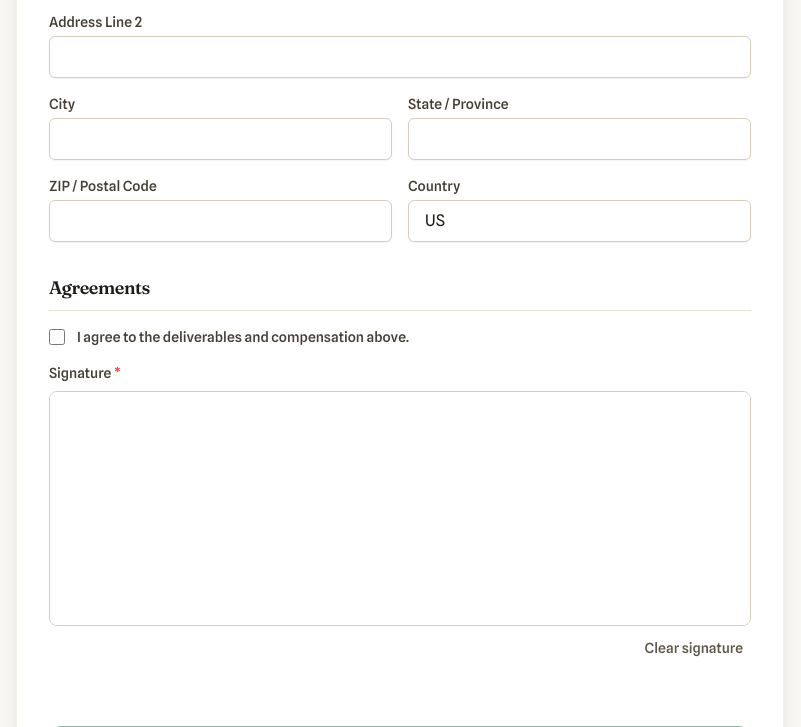
Test case: AcceptOffer signature pad › signature captures pointer strokes
(page scrolled)
Click the checkbox labelled "I agree to the deliverables and compensation above." at (57, 337), box [49,329,65,345]
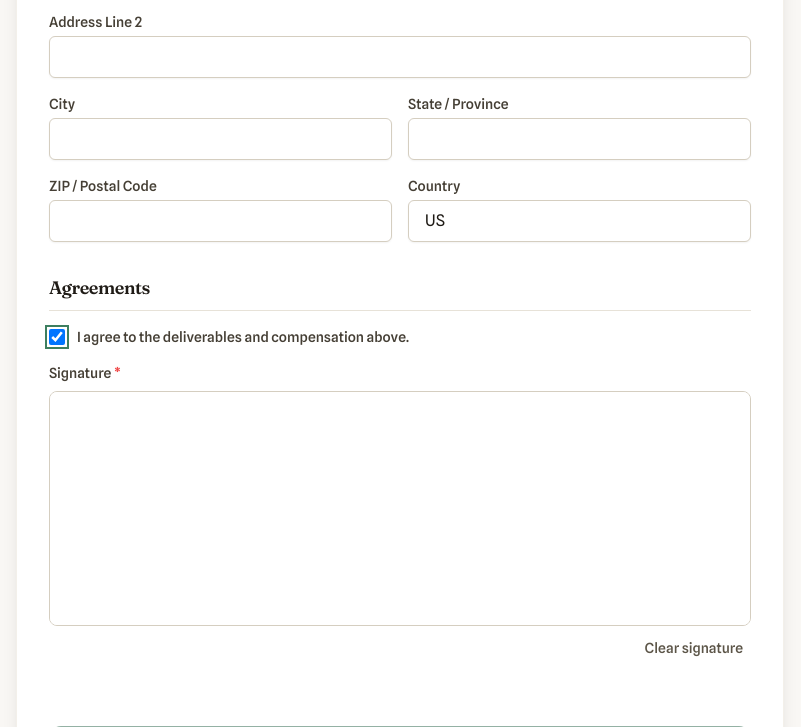
Press the mouse on the picture named "Signature pad" at (400, 509), box [50,392,750,625]
(page scrolled)
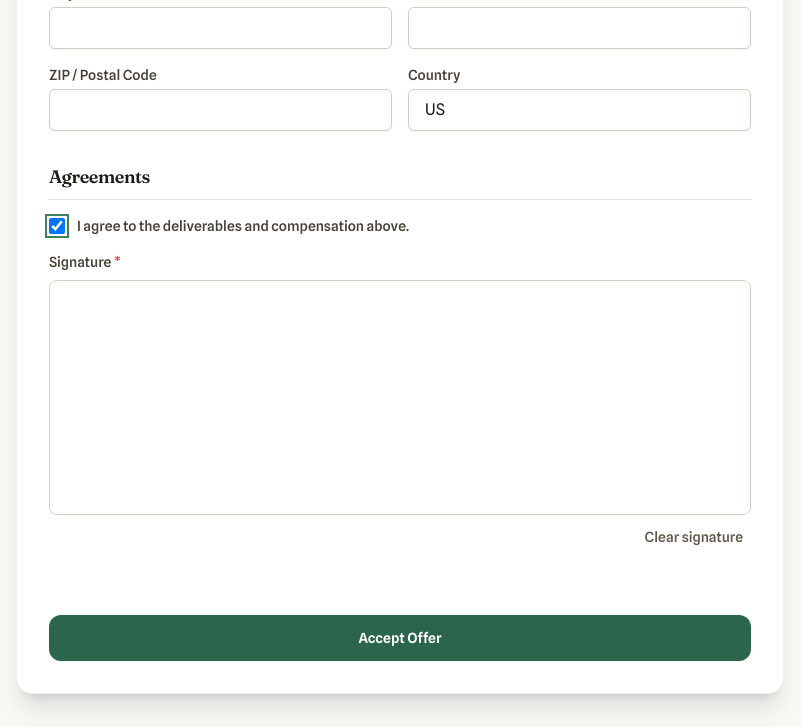
Expected: the button "Accept Offer" is enabled
Click the button "Accept Offer" at (400, 638), box [49,615,751,661]
(page scrolled)
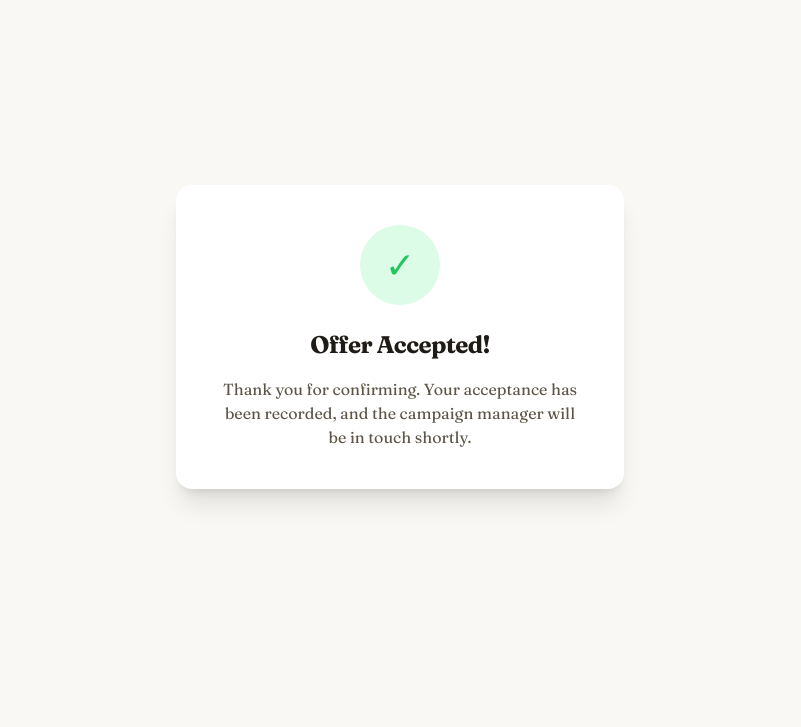
Expected: the heading "Offer Accepted!" is shown, [310,330,490,359]
